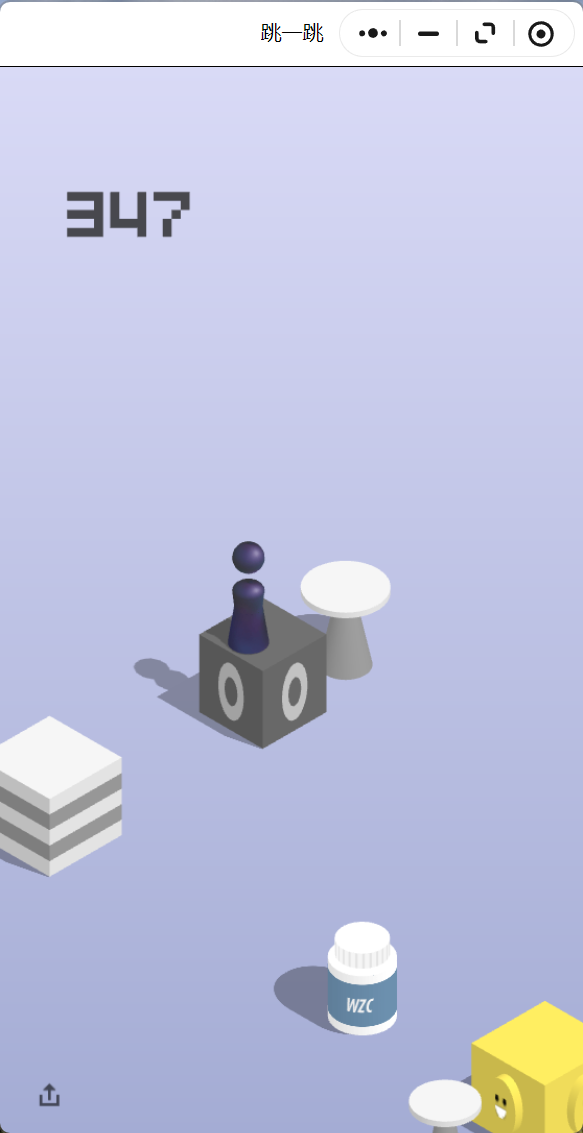piece: (233, 541, 264, 649)
target: (300, 560, 391, 612)
